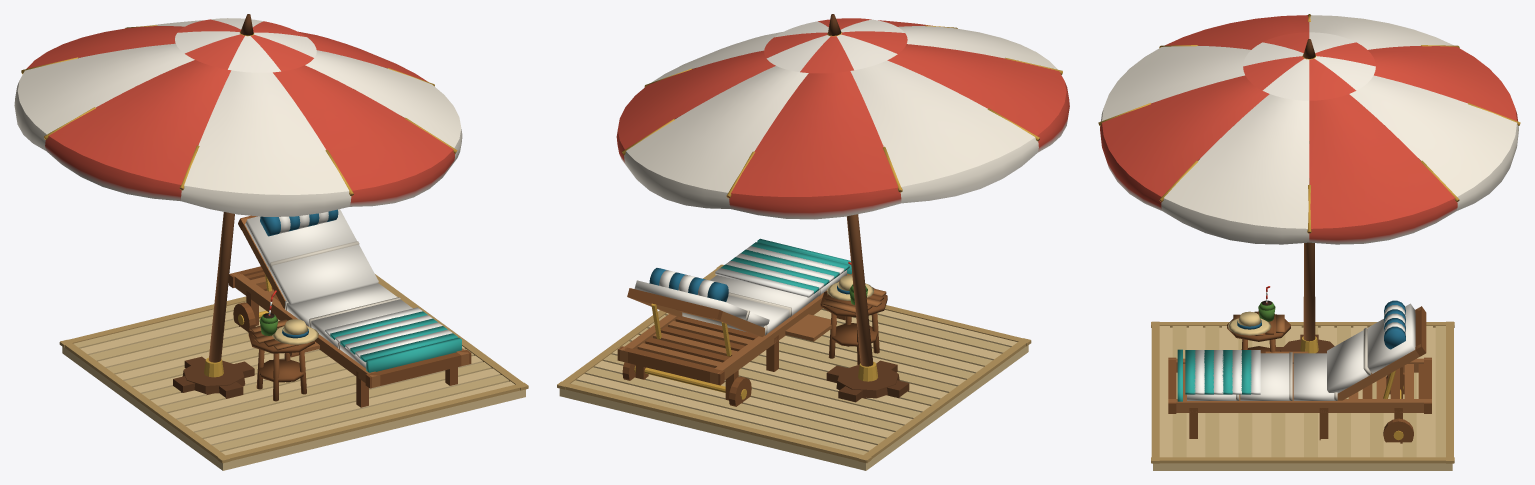
Rendered from beach_set.glb.
3 views of the same model, side by side, from view 1: azimuth 30°, elevation 25°; view 2: azimuth 150°, elevation 25°; view 3: azimuth 270°, elevation 25° (orthographic). The views are drawn at different scales.
Visible parts, largest first — view 1: UmbrellaCanopy, BeachMatPlatform, LoungerCushionAndTowel, TeakSunlounger, BeachSideTableAndDrinks, UmbrellaFrame; view 2: UmbrellaCanopy, BeachMatPlatform, TeakSunlounger, LoungerCushionAndTowel, UmbrellaFrame, BeachSideTableAndDrinks; view 3: UmbrellaCanopy, BeachMatPlatform, LoungerCushionAndTowel, TeakSunlounger, UmbrellaFrame, BeachSideTableAndDrinks.
Boxes of the visible parts, bbox=[...] form: UmbrellaCanopy: bbox=[14, 18, 462, 216]; BeachMatPlatform: bbox=[59, 274, 528, 470]; LoungerCushionAndTowel: bbox=[245, 209, 461, 372]; TeakSunlounger: bbox=[228, 215, 471, 407]; BeachSideTableAndDrinks: bbox=[248, 290, 318, 401]; UmbrellaFrame: bbox=[21, 14, 457, 362]; UmbrellaCanopy: bbox=[616, 18, 1069, 219]; BeachMatPlatform: bbox=[557, 264, 1031, 470]; TeakSunlounger: bbox=[617, 273, 852, 406]; LoungerCushionAndTowel: bbox=[634, 238, 851, 335]; UmbrellaFrame: bbox=[622, 14, 1062, 366]; BeachSideTableAndDrinks: bbox=[820, 262, 887, 364]; UmbrellaCanopy: bbox=[1100, 15, 1518, 244]; BeachMatPlatform: bbox=[1151, 321, 1454, 470]; LoungerCushionAndTowel: bbox=[1177, 300, 1415, 401]; TeakSunlounger: bbox=[1168, 306, 1431, 443]; UmbrellaFrame: bbox=[1098, 14, 1520, 341]; BeachSideTableAndDrinks: bbox=[1227, 286, 1290, 353].
Size of the model in its own units: 3.23 by 2.95 by 3.17.
